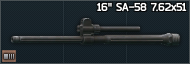SA-58 7.62x51 16 inch barrel: (0, 0, 190, 64)
